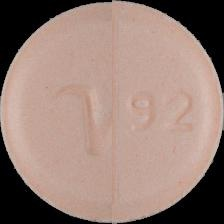50090-1989: (0, 0, 224, 224)
